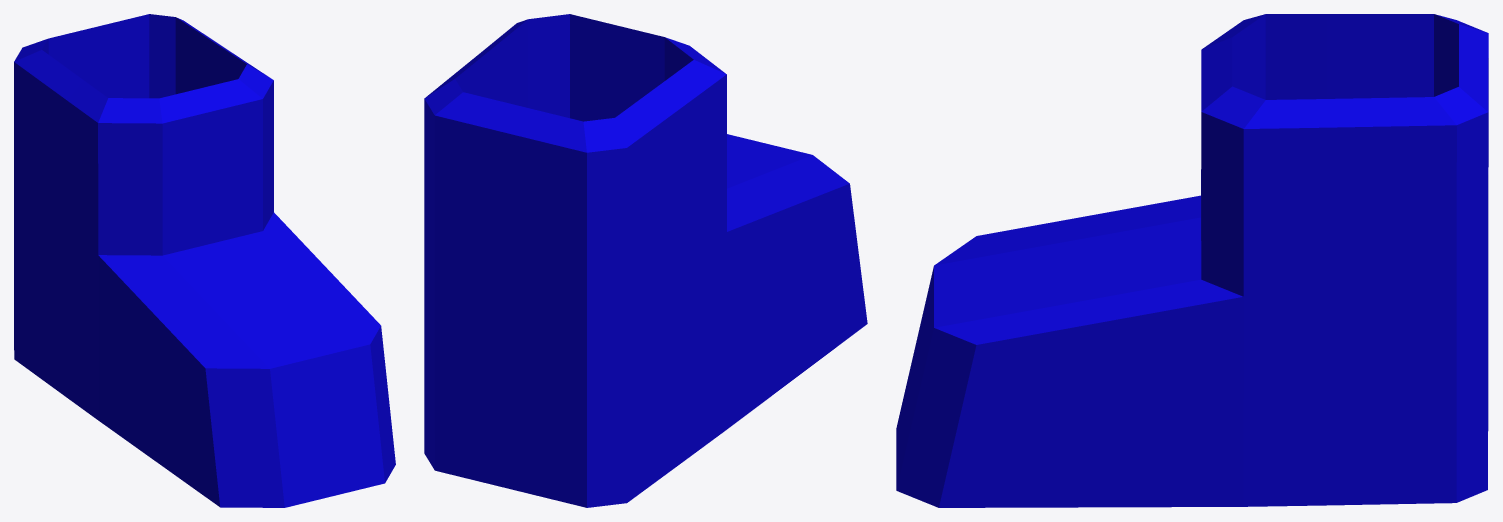
Rendered from Locker_Boot_V2_FBX.fbx.
3 renders of one model, left to right at view 1: azimuth 30°, elevation 25°; view 2: azimuth 150°, elevation 25°; view 3: azimuth 270°, elevation 25°, orthographic. The views are drawn at different scales.
Parts seen in each view (by area): view 1: Locker_Boots; view 2: Locker_Boots; view 3: Locker_Boots.
Boxes of the visible parts, x1,y1,x2,y2 form: Locker_Boots: [14, 14, 395, 507]; Locker_Boots: [424, 14, 867, 507]; Locker_Boots: [896, 14, 1488, 507].
Size of the model in its own units: 99.3 by 166 by 225.
